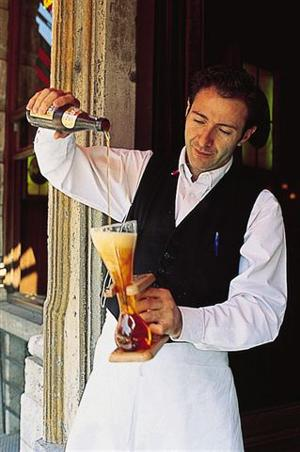person: (26, 65, 289, 449)
